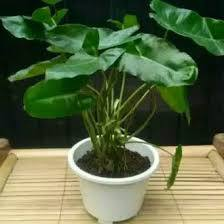jasmine: (81, 89, 158, 166)
